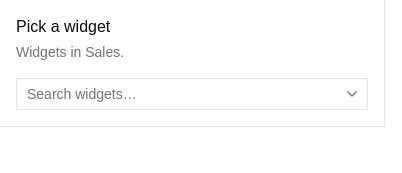
WidgetPicker combobox › shows only Pivot Table widgets by default, filtering out other widget types
What coordinates should you click on to do the following:
click the dropdown labelled "Search widgets"
I would click on:
 (178, 94)
Its box is left=17, top=78, right=340, bottom=110.
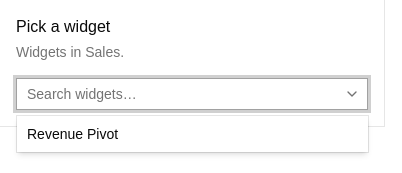
Check: the option "Revenue Pivot" is shown, box left=27, top=126, right=118, bottom=142
